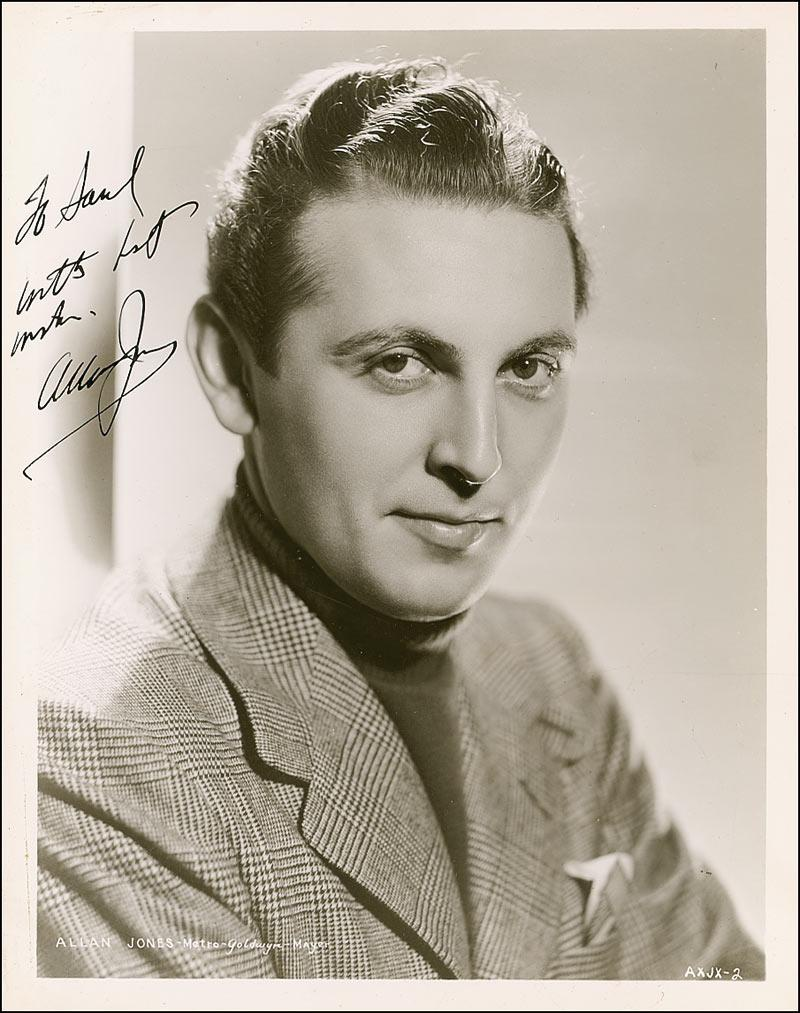bad: (247, 247, 632, 632)
